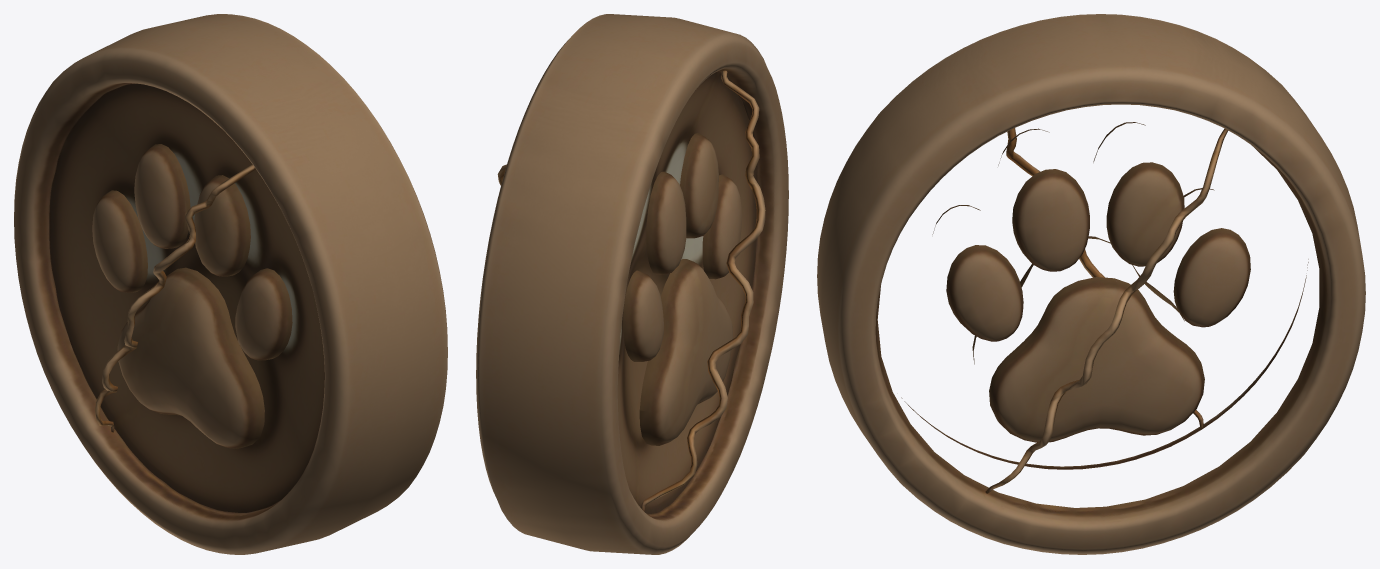
The model's file is thunder-paw-medallion.glb.
The picture shows the model from 3 angles, left to right: view 1: azimuth 30°, elevation 25°; view 2: azimuth 150°, elevation 25°; view 3: azimuth 270°, elevation 25°; orthographic projection.
Parts seen in each view (by area): view 1: tripo_node_8f9ead9b-60c7-49ec-8716-6d4424c7588b; view 2: tripo_node_8f9ead9b-60c7-49ec-8716-6d4424c7588b; view 3: tripo_node_8f9ead9b-60c7-49ec-8716-6d4424c7588b.
Boxes of the visible parts, box(x1,y1,x2,y2) form: tripo_node_8f9ead9b-60c7-49ec-8716-6d4424c7588b: box(14, 14, 447, 554); tripo_node_8f9ead9b-60c7-49ec-8716-6d4424c7588b: box(476, 14, 788, 554); tripo_node_8f9ead9b-60c7-49ec-8716-6d4424c7588b: box(817, 14, 1365, 554).
Bounding box in the file's own units: 0.4875 × 0.9995 × 1.
1 material, 1 textured.
